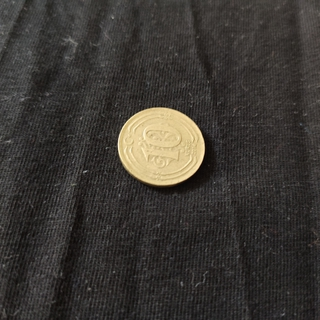10KURUS: (115, 104, 206, 190)
